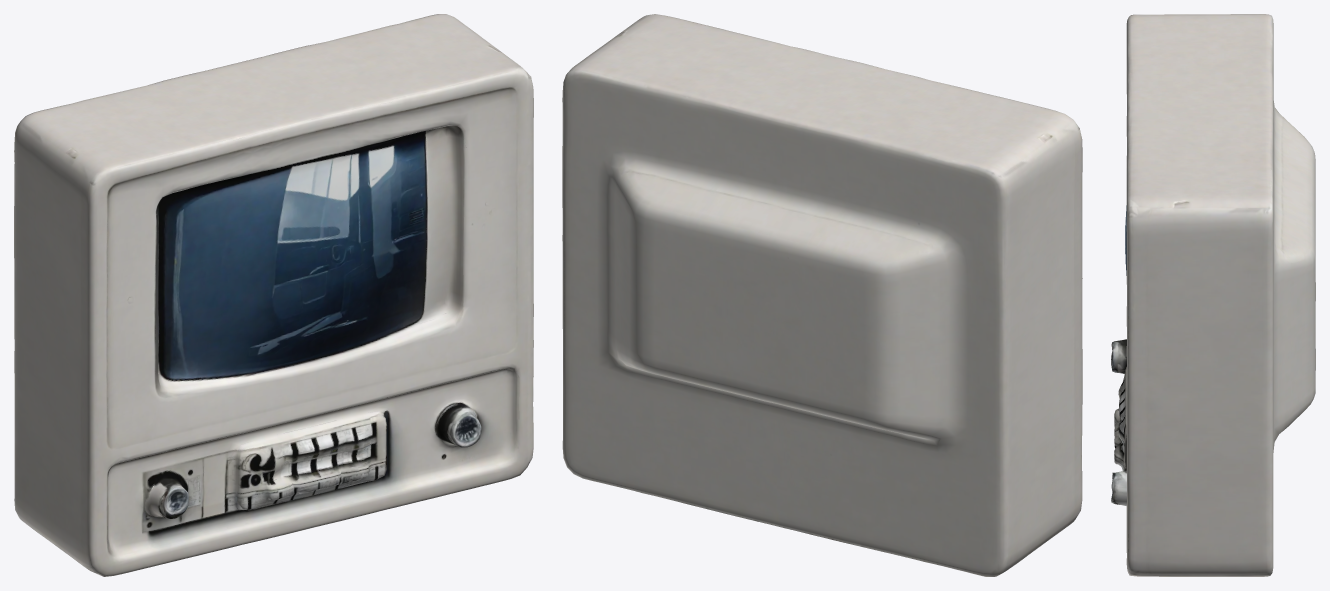
Rendered from meshy_3_1780590664155.glb.
The picture shows the model from 3 angles, left to right: view 1: azimuth 30°, elevation 25°; view 2: azimuth 150°, elevation 25°; view 3: azimuth 270°, elevation 25°; orthographic projection. The views are drawn at different scales.
Bounding box in the file's own units: 2 × 1.77 × 0.8675.
1 material, 1 textured.
